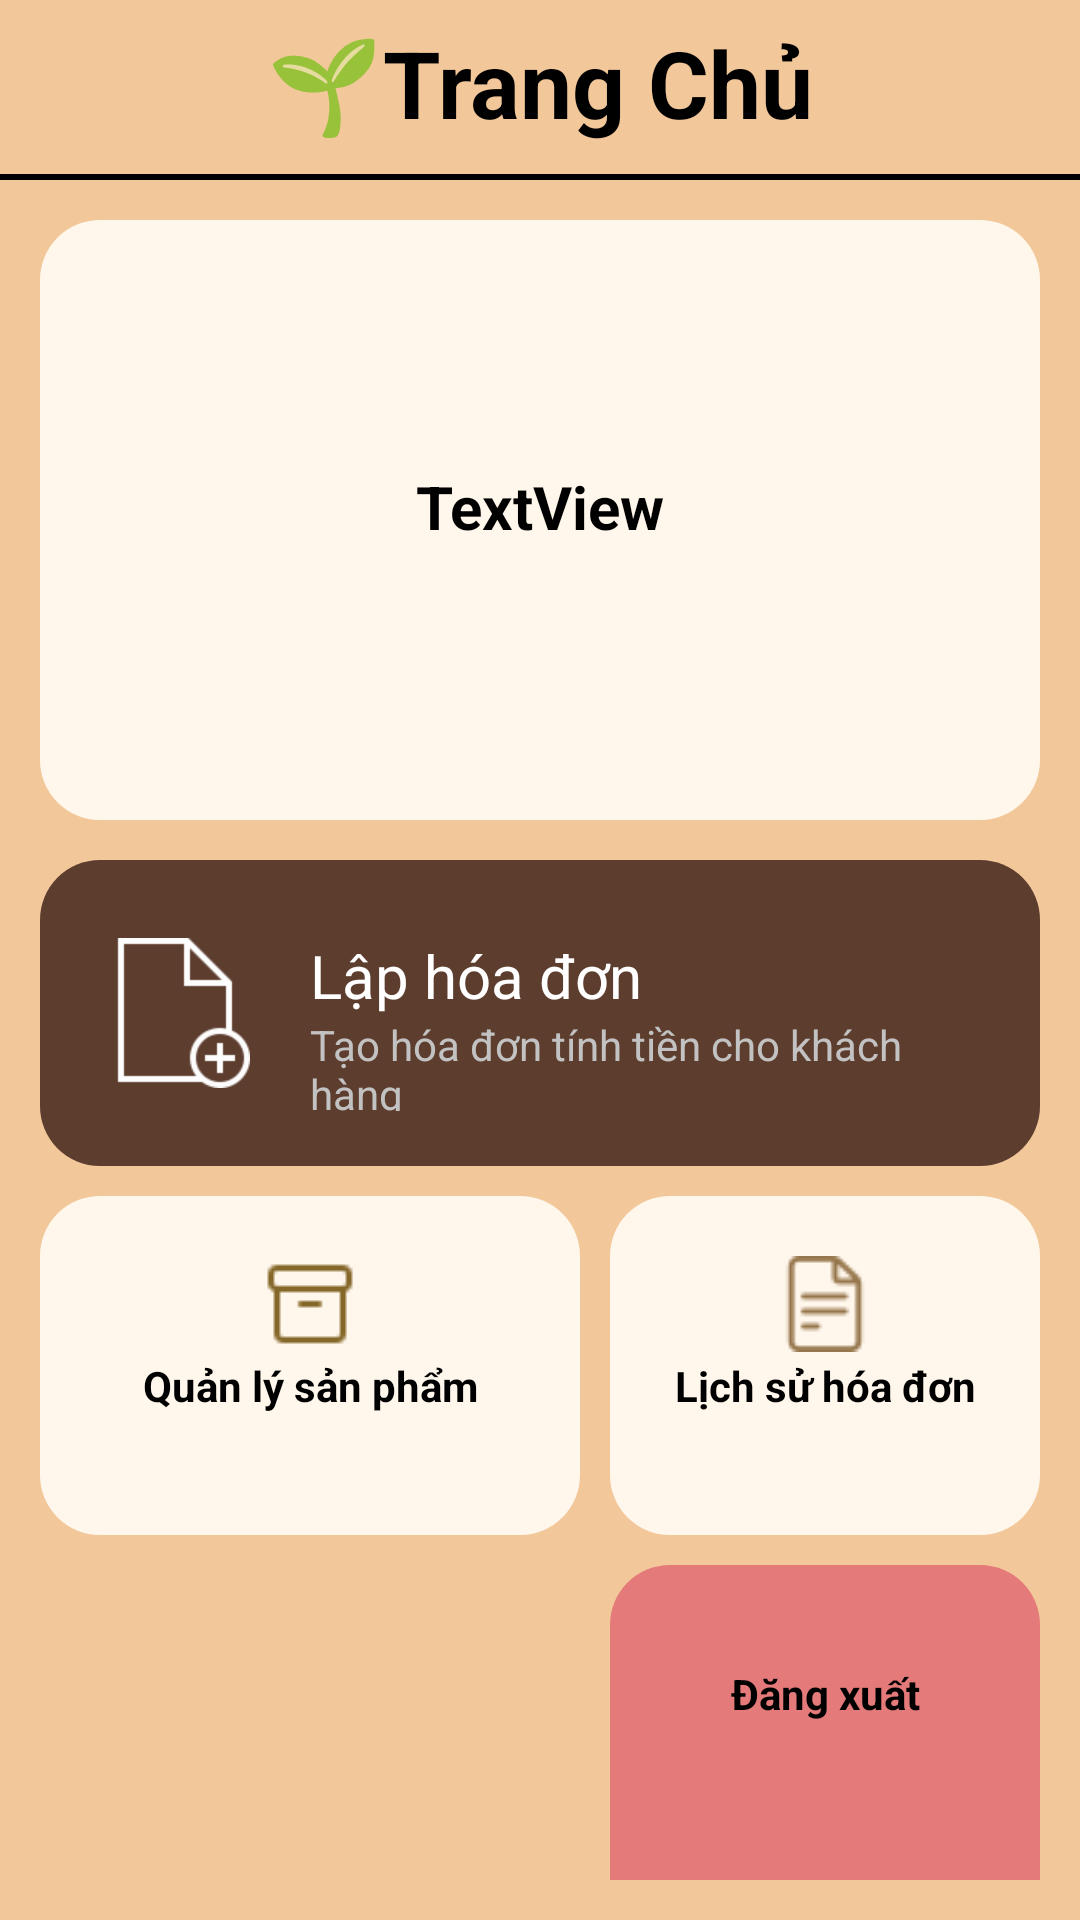

Icons on this 1080 × 1920 Android screen, each with the point to tap as (x,y):
add file: (183,1013)
archive: (310,1304)
document: (825,1304)
